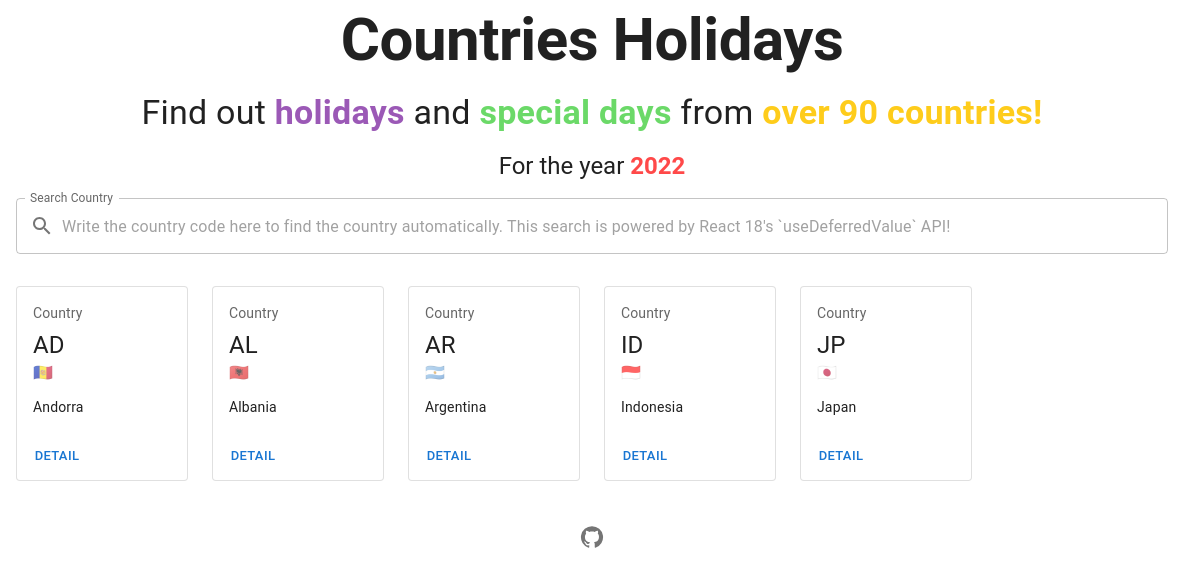
ensures that the search functionality works
# Type something in the bar, this time it should show the filtered countries.
Type "ID" into the field labelled "Search Country" at x=615, y=226, box [62,198,1168,254]
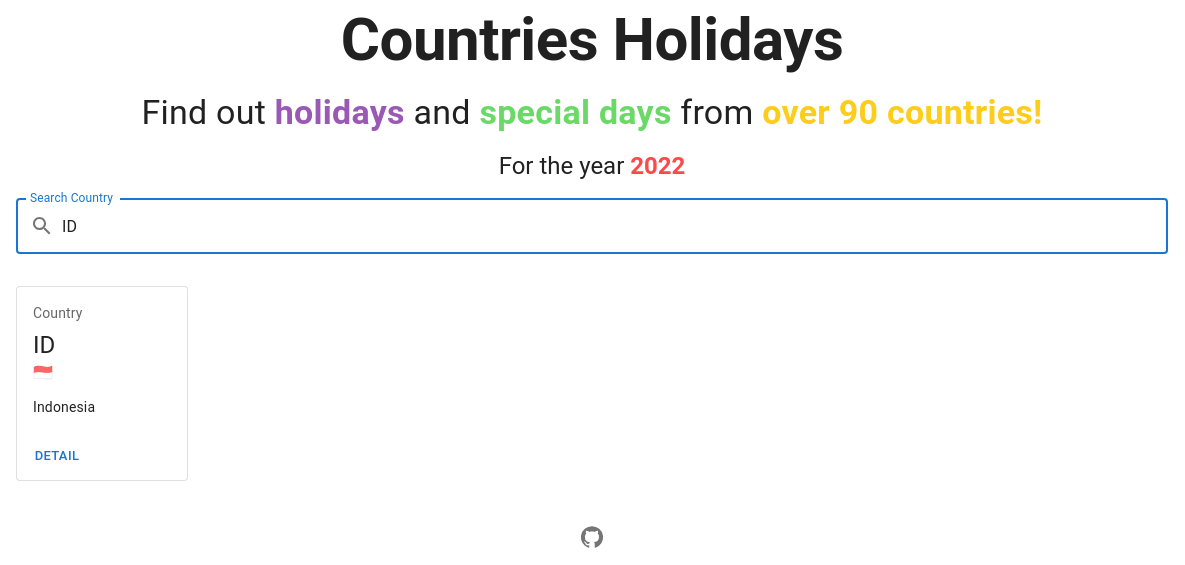
Expected: the text "Indonesia" is shown, [33,399,95,415]
Expected: the text "Japan" is gone
